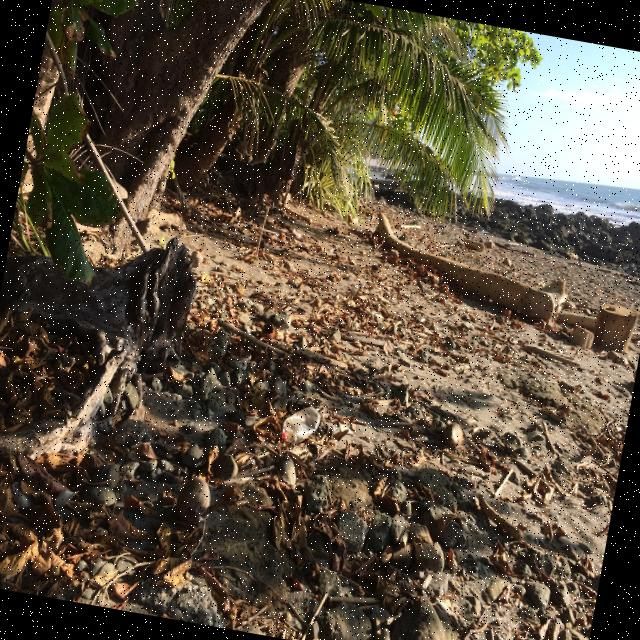Clear plastic bottle: (281, 406, 320, 443)
Plastic bottle cap: (281, 432, 287, 439)
